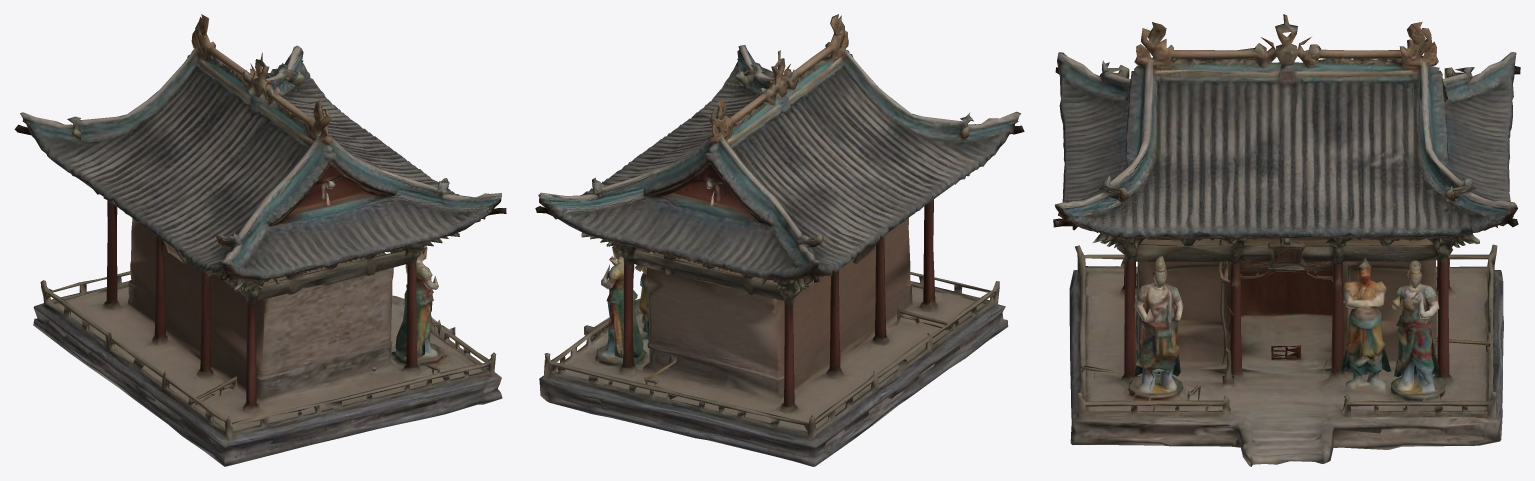
The model's file is building-shuanglinsi.glb.
3 views of the same model, side by side, from view 1: azimuth 30°, elevation 25°; view 2: azimuth 150°, elevation 25°; view 3: azimuth 270°, elevation 25° (orthographic). The views are drawn at different scales.
Parts seen in each view (by area): view 1: node_ac633803-775d-4482-957d-49a91606e2e9; view 2: node_ac633803-775d-4482-957d-49a91606e2e9; view 3: node_ac633803-775d-4482-957d-49a91606e2e9.
Part boxes in pixels (x1=…): node_ac633803-775d-4482-957d-49a91606e2e9: x1=14, y1=14, x2=506, y2=466; node_ac633803-775d-4482-957d-49a91606e2e9: x1=535, y1=14, x2=1024, y2=466; node_ac633803-775d-4482-957d-49a91606e2e9: x1=1053, y1=14, x2=1520, y2=466.
Bounding box in the file's own units: 0.8951 × 0.84 × 1.
Materials: 1 (1 with a texture image).
